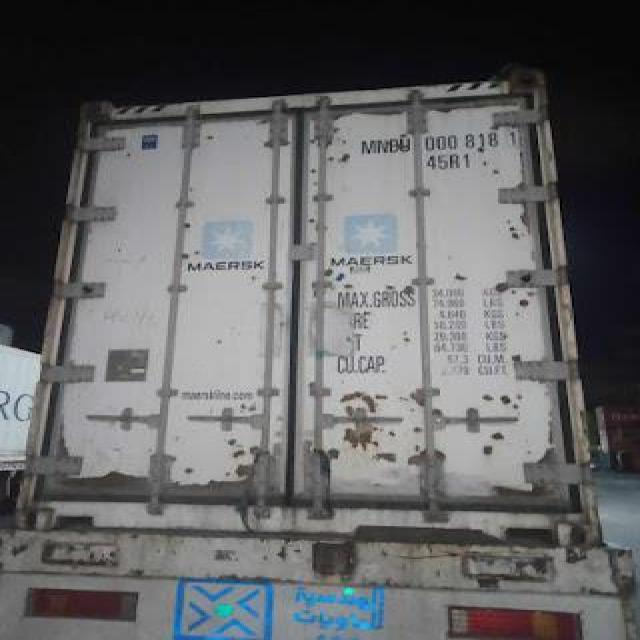ISO: (424, 152, 469, 172)
container_number: (356, 134, 516, 154)
